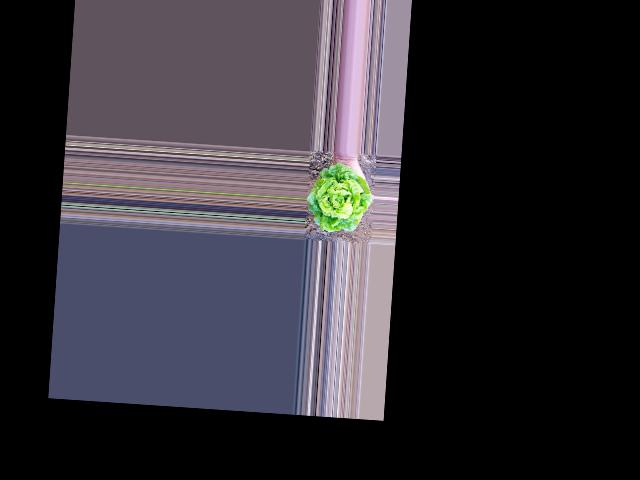lettuce: (306, 165, 372, 235)
